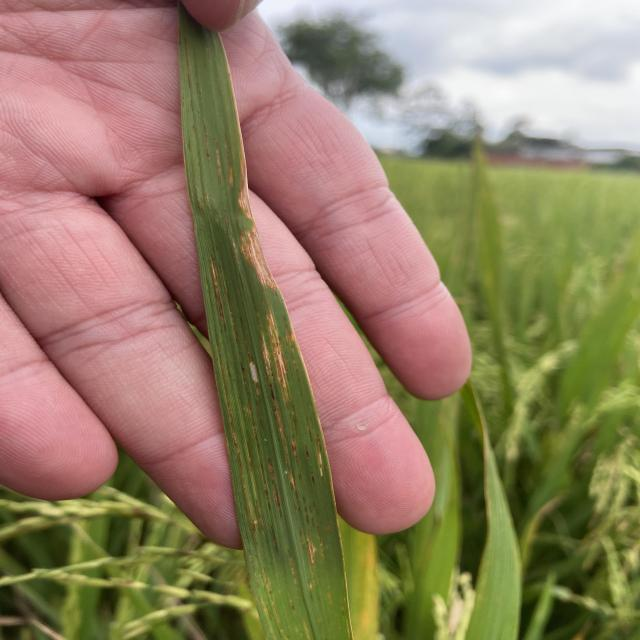Dom soc vi khuan: (259, 334, 297, 494), (265, 312, 289, 407), (209, 255, 227, 332), (266, 459, 281, 509), (247, 357, 262, 396), (314, 435, 324, 481), (305, 532, 316, 565), (245, 442, 254, 471), (290, 438, 299, 461)
